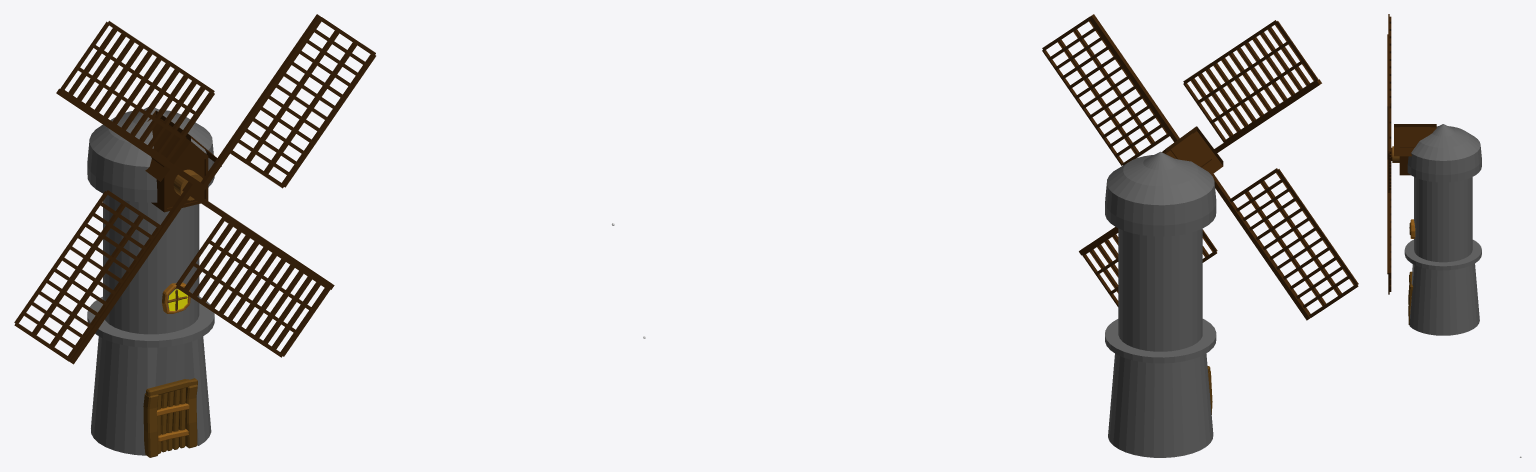
Rendered from Windmill.fbx.
3 renders of one model, left to right at view 1: azimuth 30°, elevation 25°; view 2: azimuth 150°, elevation 25°; view 3: azimuth 270°, elevation 25°, orthographic. The views are drawn at different scales.
Visible parts, largest first — view 1: Cube.002, Cylinder, Cube.027, Plane.006; view 2: Cylinder, Cube.002; view 3: Cylinder, Cube.002, Cube.027.
Boxes of the visible parts, box(x1,y1,x2,y2) form: Cube.002: box(14, 14, 375, 364); Cylinder: box(87, 107, 214, 455); Cube.027: box(143, 289, 197, 457); Plane.006: box(156, 282, 190, 441); Cylinder: box(1105, 151, 1216, 457); Cube.002: box(1042, 14, 1358, 320); Cylinder: box(1404, 124, 1481, 335); Cube.002: box(1387, 14, 1436, 294); Cube.027: box(1408, 222, 1413, 324).
Size of the model in its own units: 1417 by 886 by 384.
